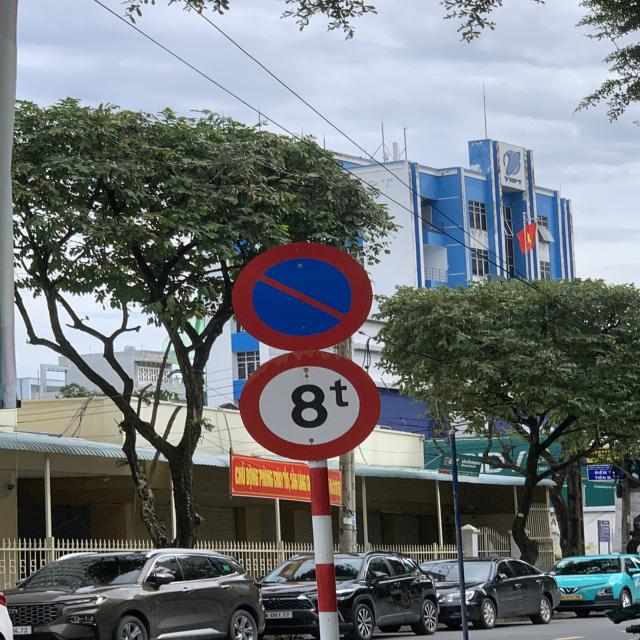Cam_Dau_Xe: (234, 242, 366, 344)
